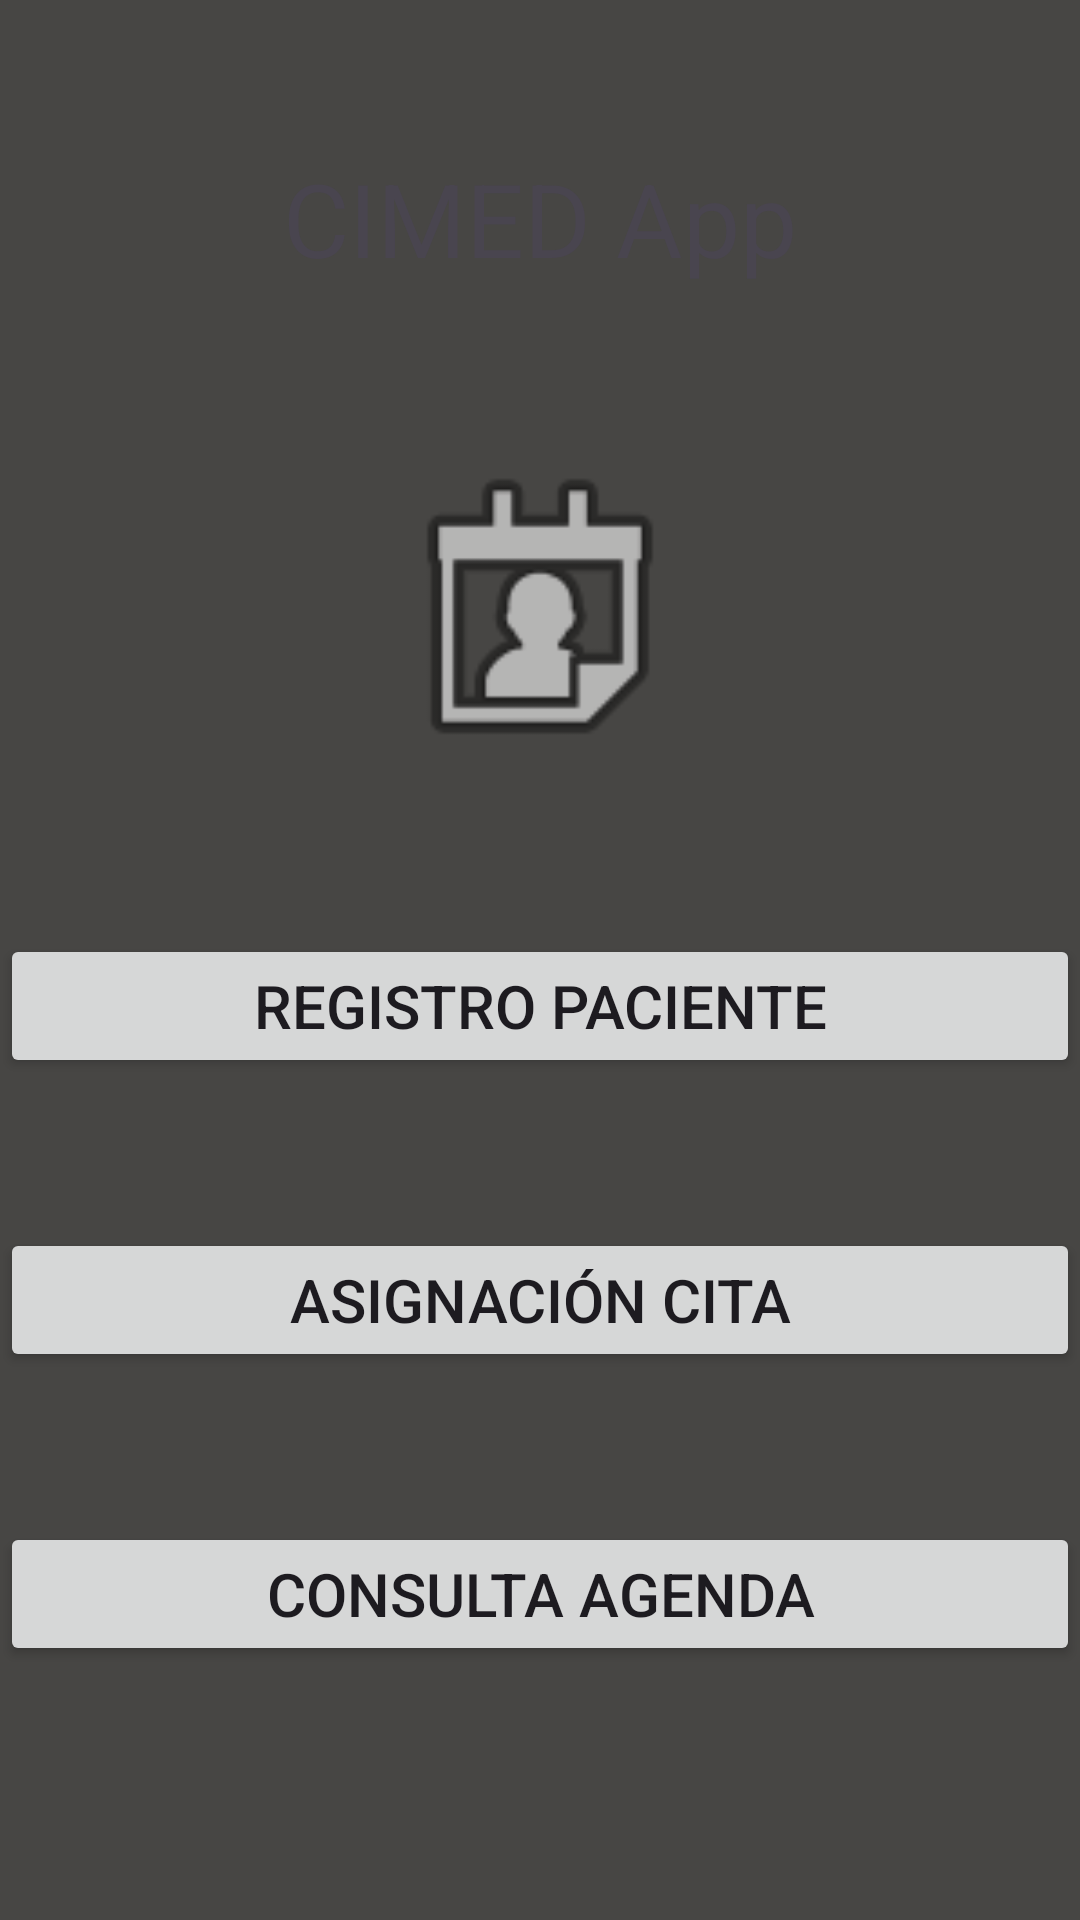

Where icons sit on this 1080w x 1920h app screen, as (x1, y1, x2, y2):
calendar: (429, 481, 651, 731)
